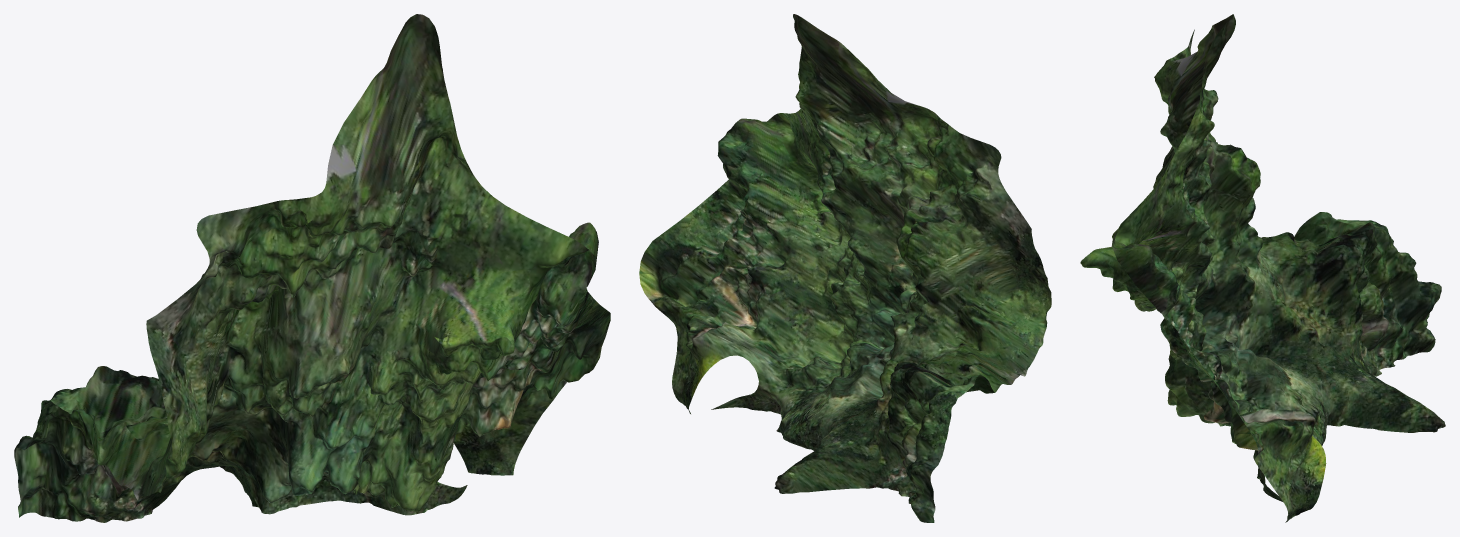
The model's file is Tile_+023_+020.fbx.
The picture shows the model from 3 angles, left to right: view 1: azimuth 30°, elevation 25°; view 2: azimuth 150°, elevation 25°; view 3: azimuth 270°, elevation 25°; orthographic projection. The views are drawn at different scales.
Parts seen in each view (by area): view 1: DefaultName; view 2: DefaultName; view 3: DefaultName.
Part boxes in pixels (x1,y1,x2,y2): DefaultName: [14, 14, 610, 522]; DefaultName: [639, 14, 1051, 522]; DefaultName: [1080, 14, 1445, 522].
Bounding box in the file's own units: 17.44 × 17.59 × 12.84.
